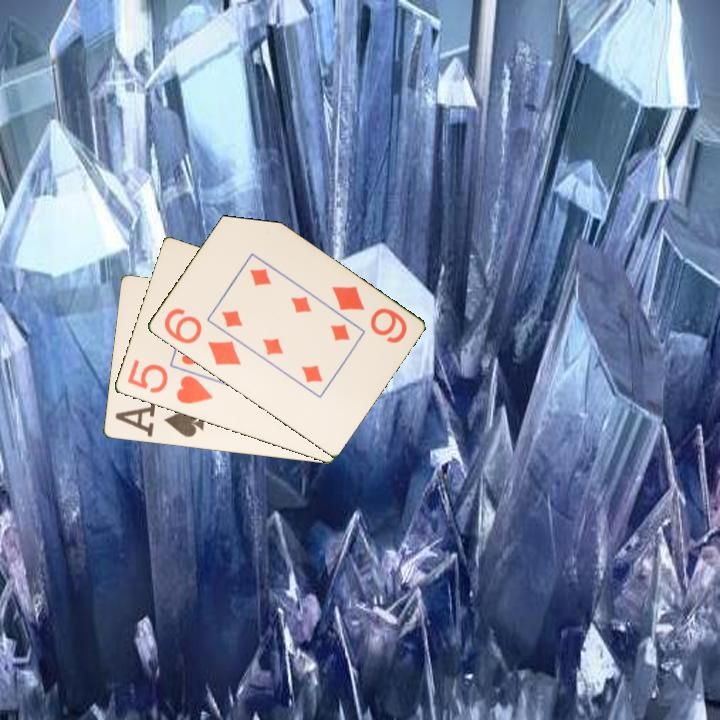5h: (123, 356, 215, 407)
6d: (160, 304, 244, 369), (328, 282, 410, 346)
As: (120, 405, 207, 440)
